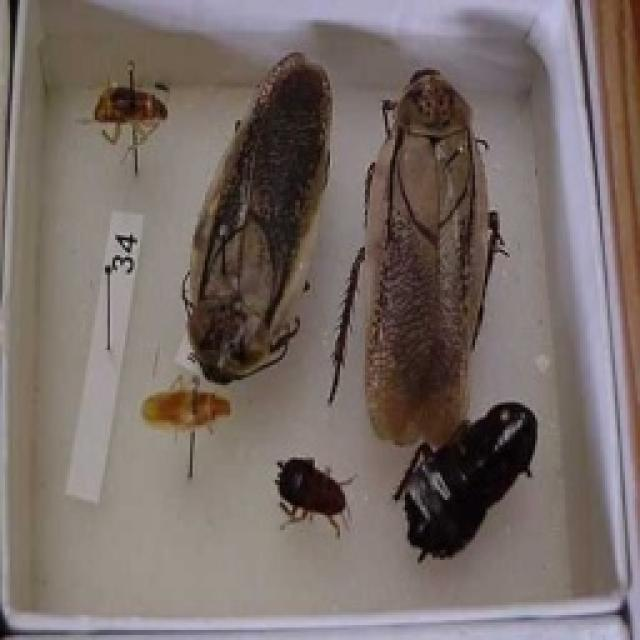cockroach: (346, 37, 509, 453), (178, 32, 356, 393), (107, 360, 254, 450), (86, 72, 186, 155)
